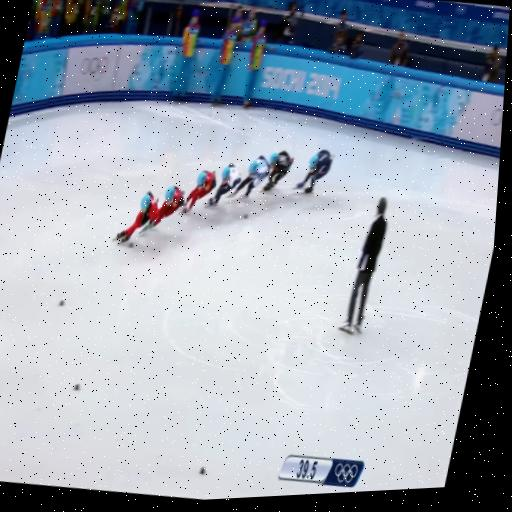Skater: (116, 192, 158, 242), (142, 186, 184, 232), (230, 156, 269, 197), (296, 150, 333, 193), (182, 172, 216, 213), (208, 164, 241, 206), (264, 151, 293, 191)
